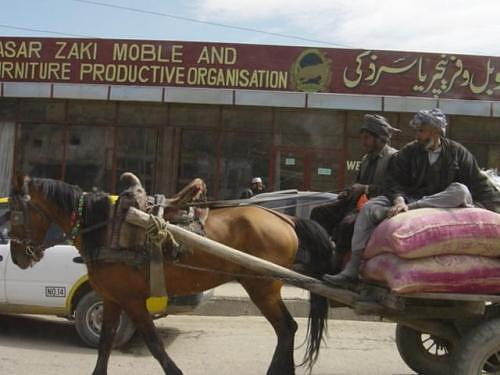horse: (0, 172, 341, 375)
